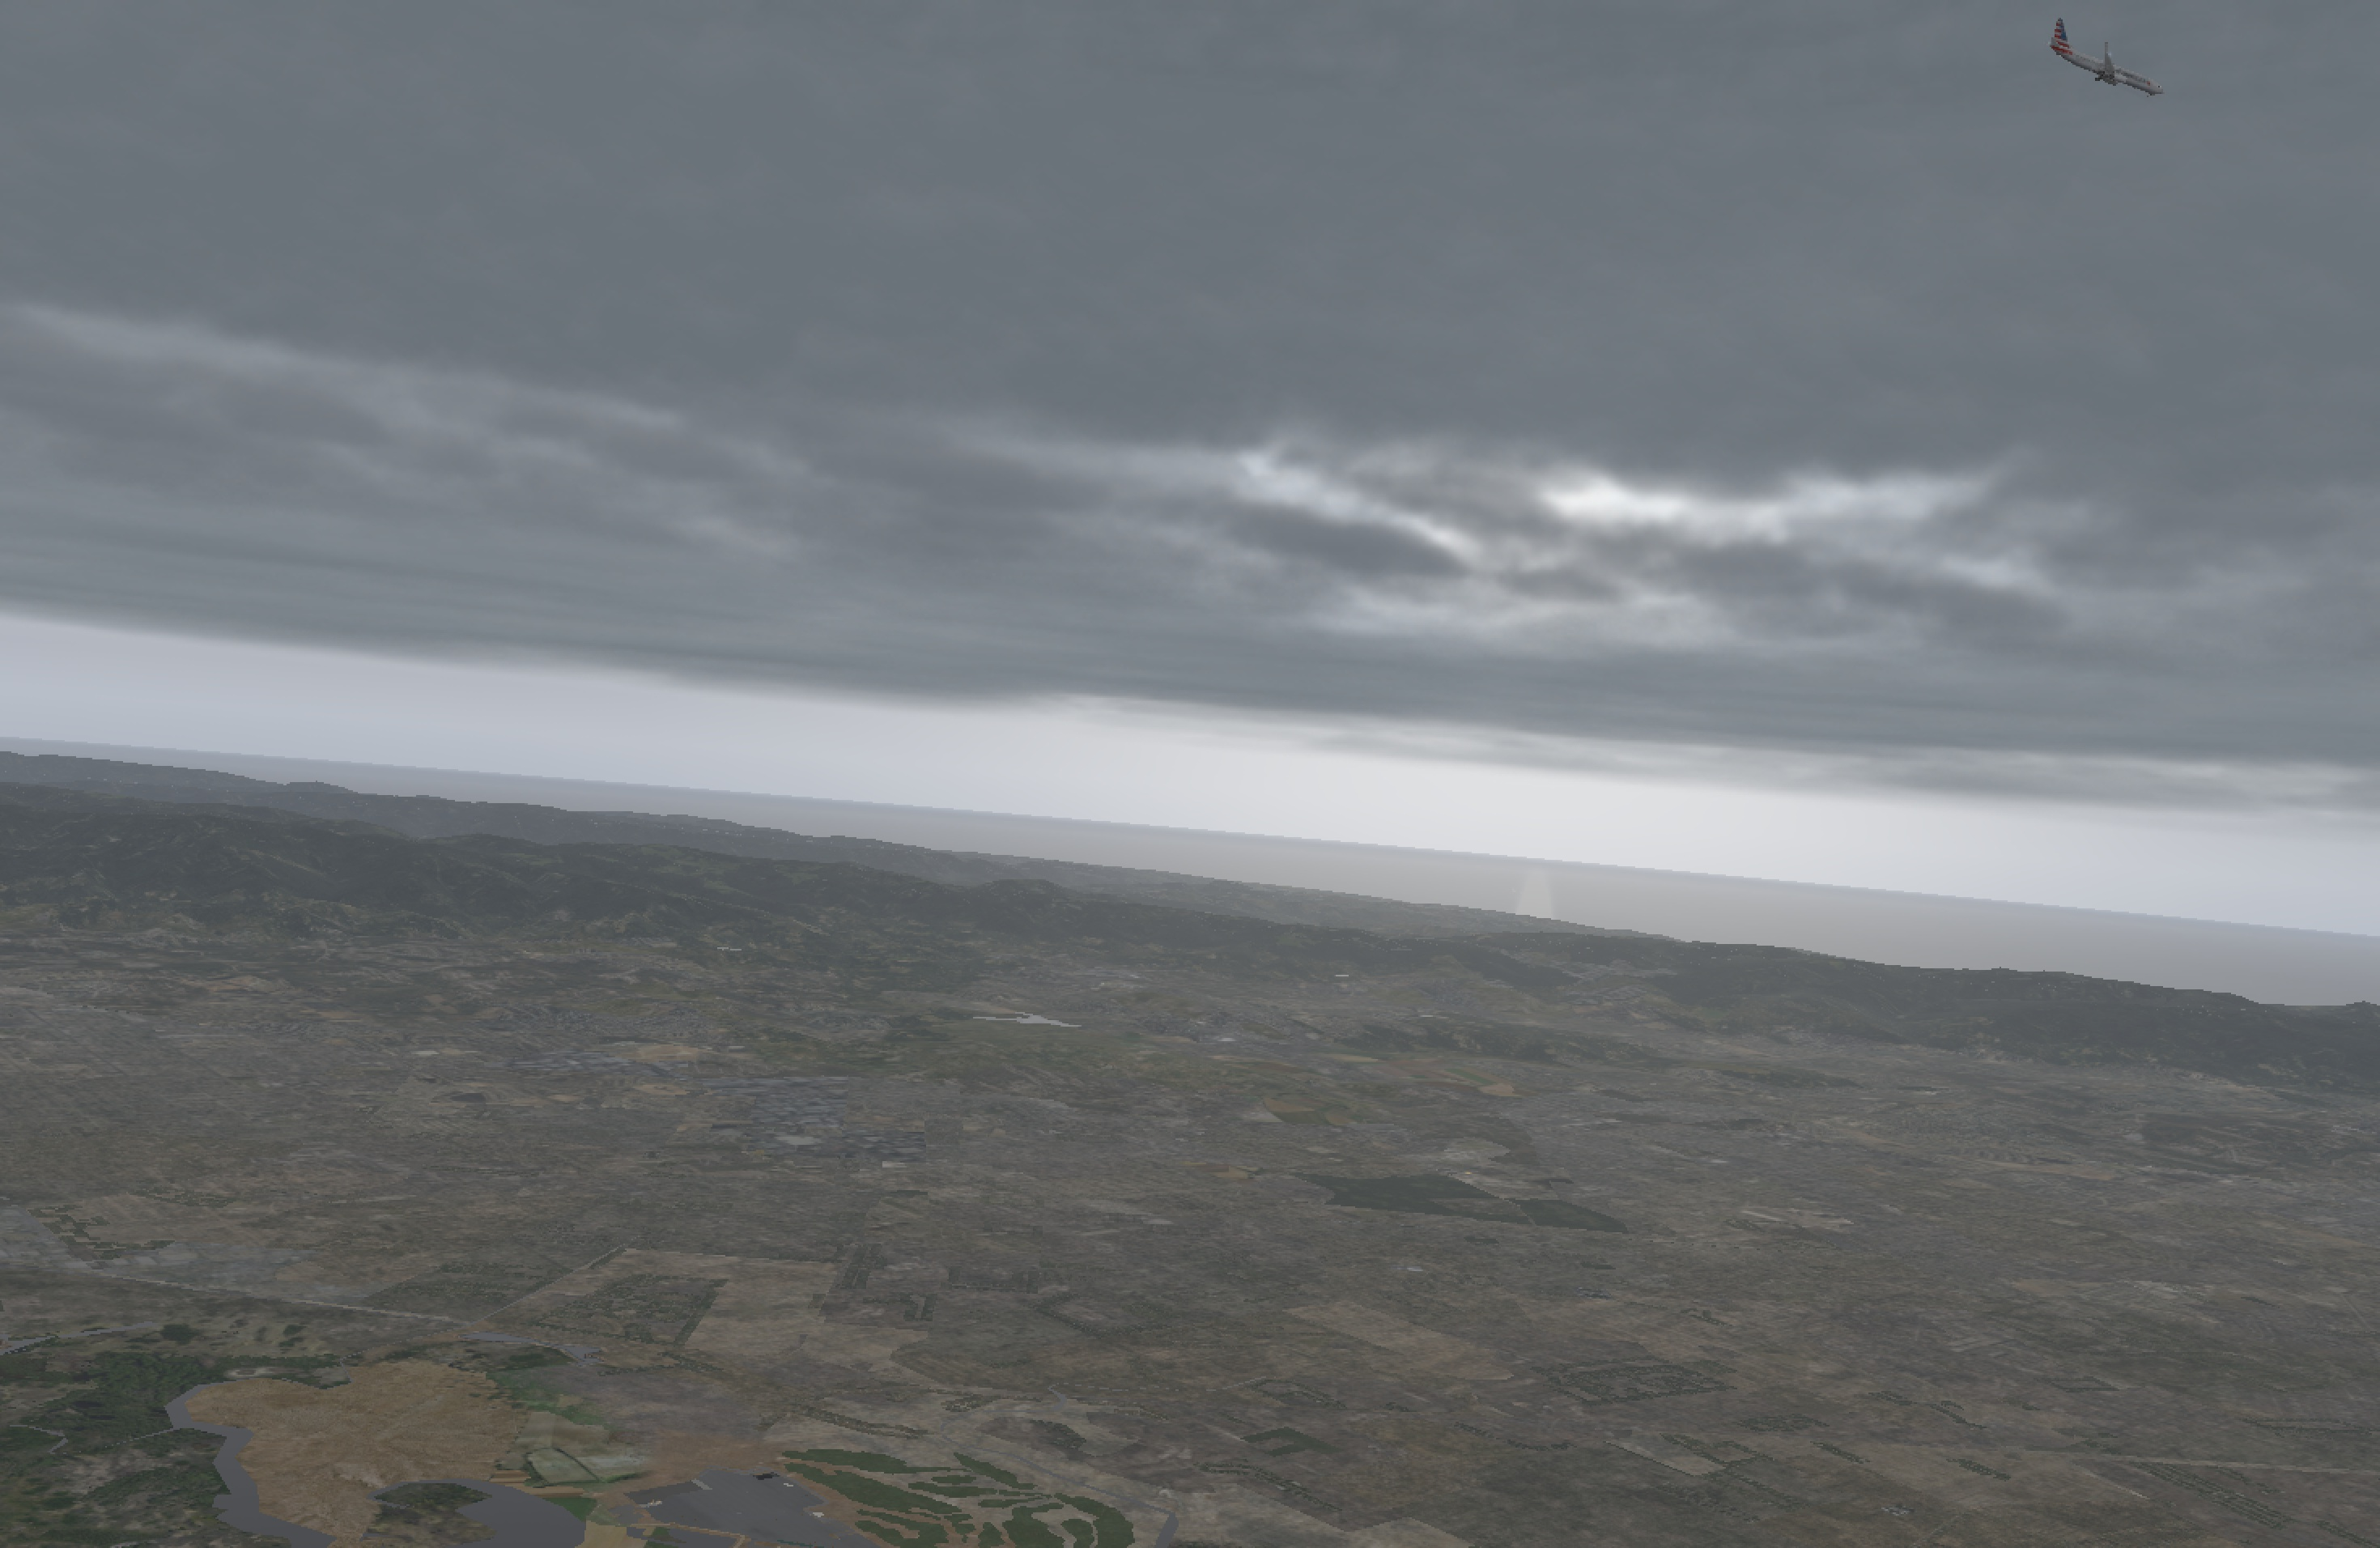aircraft: (2052, 52, 2163, 94)
